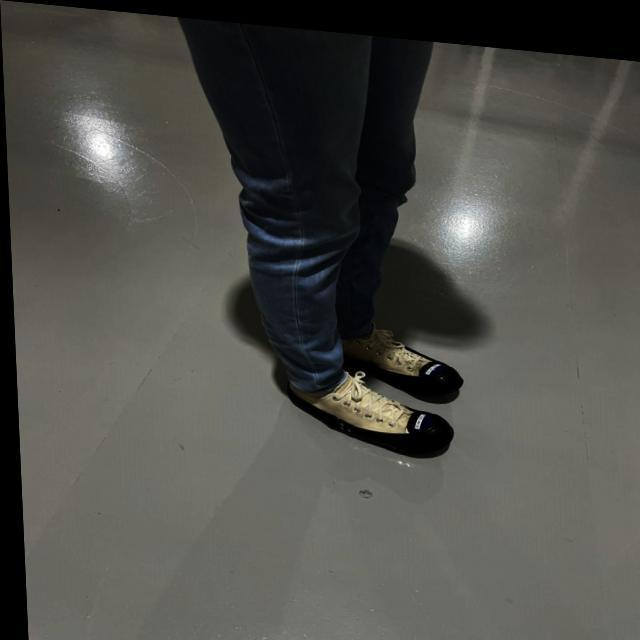shoes: (276, 356, 460, 458), (342, 316, 476, 402)
